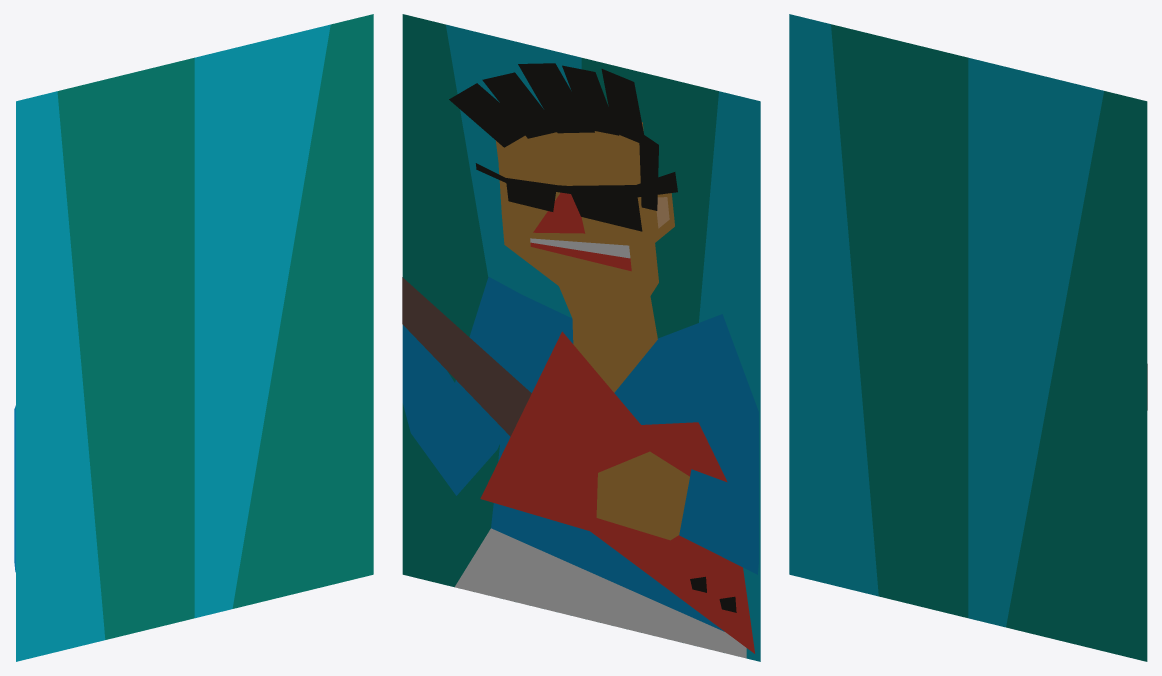
File: rock-band-poster.glb
3 views of the same model, side by side, from view 1: azimuth 30°, elevation 25°; view 2: azimuth 150°, elevation 25°; view 3: azimuth 330°, elevation 25° (orthographic).
Parts seen in each view (by area): view 1: Rock_Band_Poster_Plane.002; view 2: Rock_Band_Poster_Plane.002; view 3: Rock_Band_Poster_Plane.002.
Boxes of the visible parts, left/top/right/bottom form: Rock_Band_Poster_Plane.002: left=14, top=14, right=373, bottom=661; Rock_Band_Poster_Plane.002: left=402, top=14, right=760, bottom=661; Rock_Band_Poster_Plane.002: left=789, top=14, right=1147, bottom=661.
Bounding box in the file's own units: 9.96 × 14.91 × 0.0801.
Materials: 1 (1 with a texture image).
